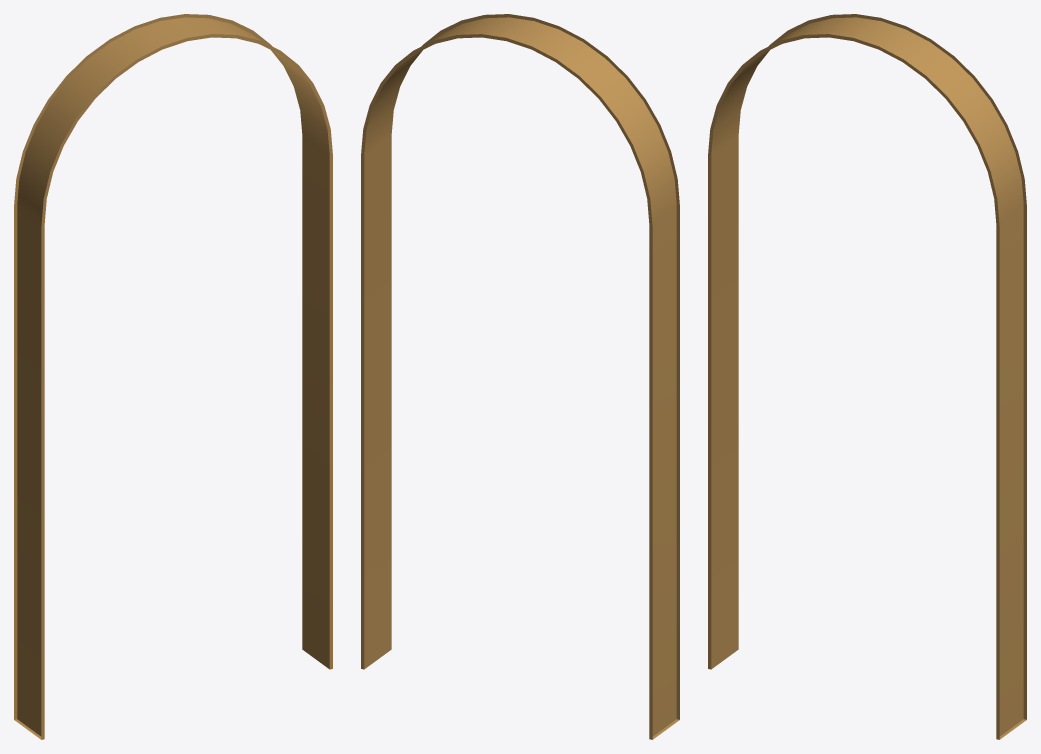
File: door_frame.glb
3 views of the same model, side by side, from view 1: azimuth 30°, elevation 25°; view 2: azimuth 150°, elevation 25°; view 3: azimuth 330°, elevation 25° (orthographic).
Parts seen in each view (by area): view 1: door_frame.001; view 2: door_frame.001; view 3: door_frame.001.
Boxes of the visible parts, x1=… form: door_frame.001: x1=14, y1=14, x2=332, y2=739; door_frame.001: x1=361, y1=14, x2=679, y2=739; door_frame.001: x1=708, y1=14, x2=1026, y2=739.
Bounding box in the file's own units: 0.92 × 2.01 × 0.15.
